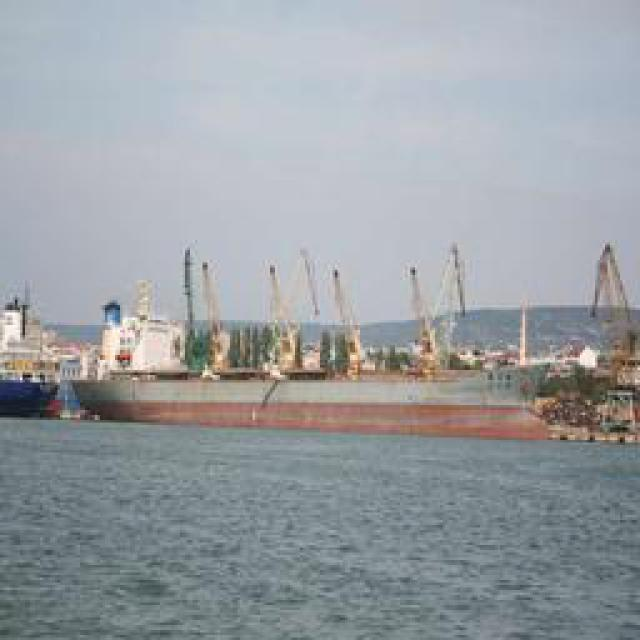Ship: (61, 341, 576, 424)
